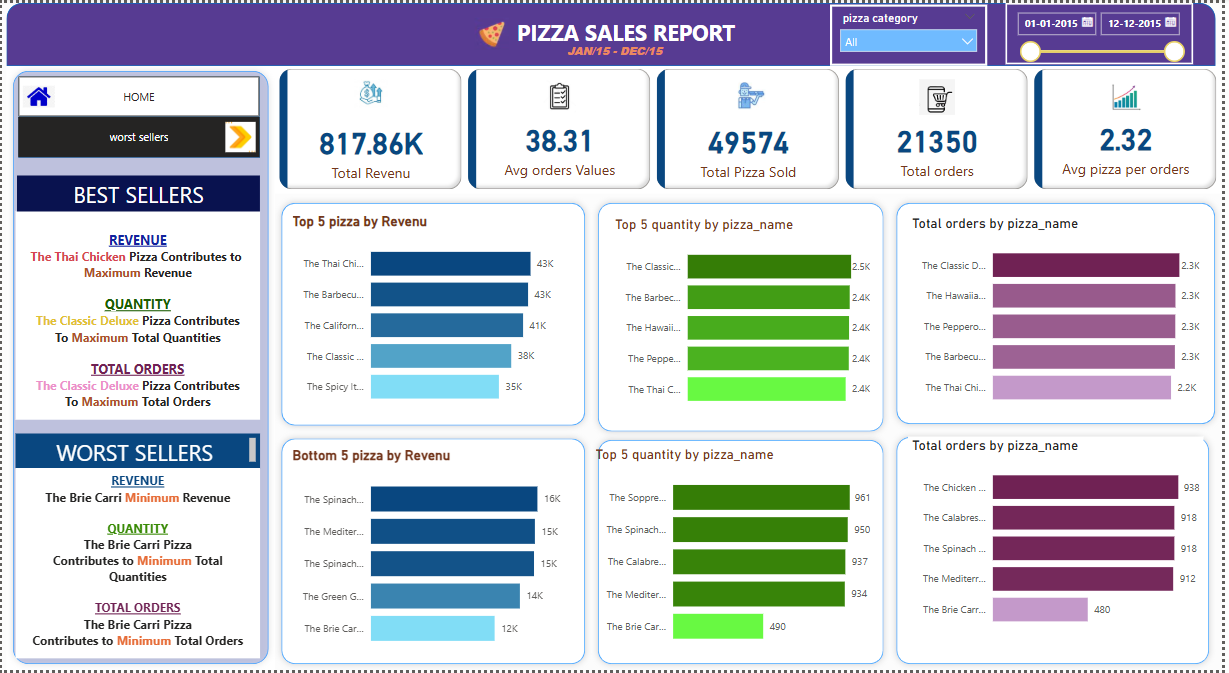

The page's visual inventory and layout, read from the dashboard file:
{"tool":"powerbi","page":{"name":"worst sellers","canvas":[1500,820],"ordinal":1},"visuals":[{"type":"shape","box":[5.5,75.6,330.1,745],"z":0},{"type":"cardVisual","fields":{"Data":["Sheet1.Total Revenu","Sheet1.Avg orders Values","Sheet1.Total Pizza Sold","Sheet1.Total orders","Sheet1.Avg pizza per orders"]},"box":[335.6,75.6,1163.6,158.6],"z":1000},{"type":"shape","box":[5.5,0,1486.4,77.5],"z":2000},{"type":"textbox","box":[617.8,12.9,298.7,64.5],"z":3000},{"type":"textbox","box":[689.7,44.3,160.4,33.2],"z":4000},{"type":"image","box":[571.7,12.9,60.9,49.8],"z":5000},{"type":"shape","box":[1091.7,237.9,407.6,287.7],"z":6000},{"type":"shape","box":[335.6,527.4,389.1,293.2],"z":7000},{"type":"shape","box":[724.7,529.3,367,291.4],"z":8000},{"type":"shape","box":[1091.7,525.6,400.2,295.1],"z":9000},{"type":"textbox","box":[18.4,212.1,298.7,49.8],"z":10000},{"type":"textbox","box":[16.6,256.3,300.6,256.3],"z":11000},{"type":"textbox","box":[16.6,529.3,300.6,42.4],"z":12000},{"type":"textbox","box":[16.6,571.7,300.6,234.2],"z":13000},{"type":"shape","box":[335.6,237.9,389.1,289.5],"z":14000},{"type":"shape","box":[724.7,237.9,367,296.9],"z":15000},{"type":"barChart","title":"Top 5  pizza by Revenu","fields":{"Category":["Sheet1.pizza_name"],"Y":["Sheet1.Total Revenu"]},"box":[352.2,258.2,350.4,249],"z":16000},{"type":"barChart","title":"Bottom 5  pizza by Revenu","fields":{"Category":["Sheet1.pizza_name"],"Y":["Sheet1.Total Revenu"]},"box":[352.2,545.9,350.4,260],"z":17000},{"type":"barChart","title":"Top 5 quantity by pizza_name","fields":{"Y":["Sum(Sheet1.quantity)"],"Category":["Sheet1.pizza_name"]},"box":[748.5,261.3,323.3,248],"z":18000},{"type":"barChart","title":"Top 5 quantity by pizza_name","fields":{"Y":["Sum(Sheet1.quantity)"],"Category":["Sheet1.pizza_name"]},"box":[724.2,544.8,347.7,259.1],"z":19000},{"type":"barChart","fields":{"Category":["Sheet1.pizza_name"],"Y":["Sheet1.Total orders"]},"box":[1113.9,259.1,363.2,248],"z":20000},{"type":"barChart","fields":{"Category":["Sheet1.pizza_name"],"Y":["Sheet1.Total orders"]},"box":[1113.9,533.7,363.2,248],"z":21000},{"type":"slicer","fields":{"Values":["Sheet1.pizza_category"]},"box":[1018,1.8,193.6,75.6],"z":22000},{"type":"slicer","fields":{"Values":["Sheet1.order_date"]},"box":[1233.7,0,230.5,75.6],"z":23000},{"type":"pageNavigator","box":[20.3,90.4,296.9,49.8],"z":24000},{"type":"pageNavigator","box":[20.3,140.2,296.9,49.8],"z":25000},{"type":"image","box":[20.3,90.4,49.8,49.8],"z":26000},{"type":"image","box":[269.2,140.2,47.9,49.8],"z":27000}]}

Visuals, with their boxes in screenshot pixels (x1, y1, x2, y2), scaled from the page's 1500x820 canvas onto the 1229x673 screenshot:
shape: [5,62,275,672]
cardVisual - Sheet1.Total Revenu x Sheet1.Avg orders Values: [275,62,1228,192]
shape: [5,0,1222,64]
textbox: [506,11,751,64]
textbox: [565,36,697,64]
image: [468,11,518,51]
shape: [894,195,1228,431]
shape: [275,433,594,672]
shape: [594,434,894,672]
shape: [894,431,1222,672]
textbox: [15,174,260,215]
textbox: [14,210,260,421]
textbox: [14,434,260,469]
textbox: [14,469,260,661]
shape: [275,195,594,433]
shape: [594,195,894,439]
"Top 5  pizza by Revenu" barChart: [289,212,576,416]
"Bottom 5  pizza by Revenu" barChart: [289,448,576,661]
"Top 5 quantity by pizza_name" barChart: [613,214,878,418]
"Top 5 quantity by pizza_name" barChart: [593,447,878,660]
barChart - Sheet1.pizza_name x Sheet1.Total orders: [913,213,1210,416]
barChart - Sheet1.pizza_name x Sheet1.Total orders: [913,438,1210,642]
slicer - Sheet1.pizza_category: [834,1,993,64]
slicer - Sheet1.order_date: [1011,0,1200,62]
pageNavigator: [17,74,260,115]
pageNavigator: [17,115,260,156]
image: [17,74,57,115]
image: [221,115,260,156]
